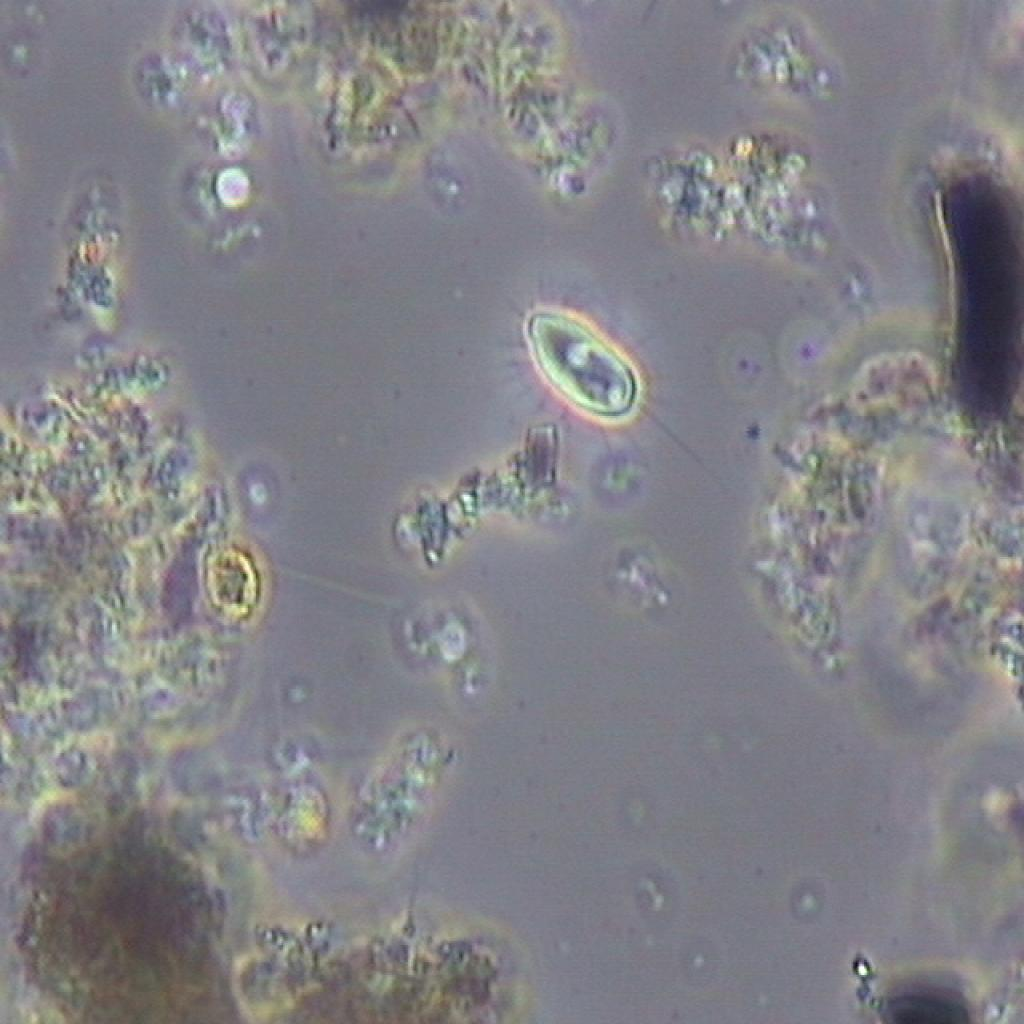Cyclidium: (507, 274, 698, 485)
